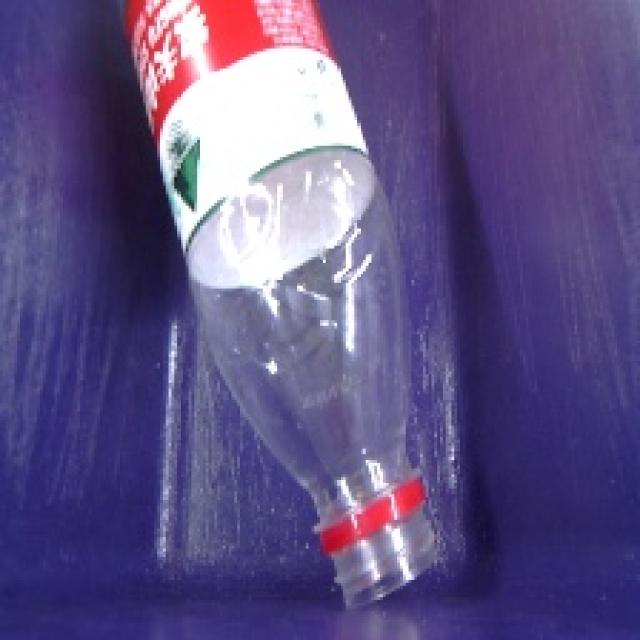plastic: (82, 0, 466, 621)
